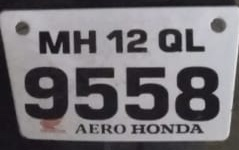character: (23, 66, 69, 119), (175, 66, 219, 121), (73, 66, 117, 119), (125, 66, 169, 119), (38, 29, 70, 55), (157, 28, 183, 53), (72, 29, 96, 55), (184, 26, 205, 52), (126, 28, 148, 52), (105, 28, 123, 53), (174, 122, 189, 135), (130, 123, 145, 135), (145, 123, 160, 135), (74, 122, 87, 135), (160, 122, 174, 134), (100, 122, 112, 135), (189, 123, 202, 135), (113, 123, 126, 134), (88, 122, 98, 135)
